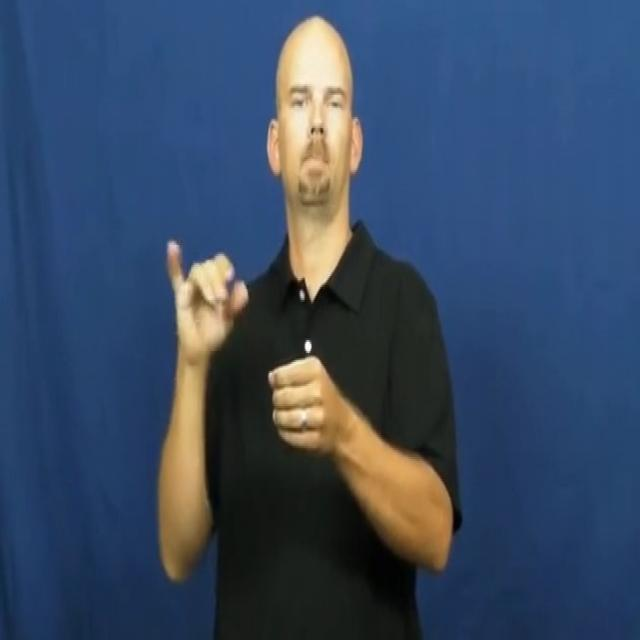soda: (160, 228, 348, 458)
